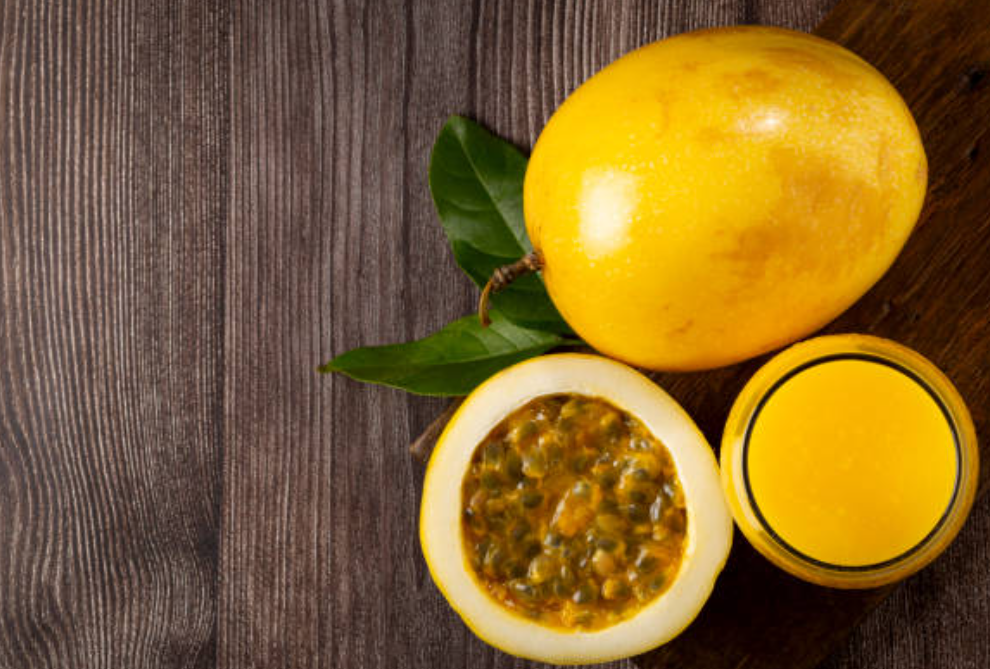maracuya: (505, 21, 934, 387)
